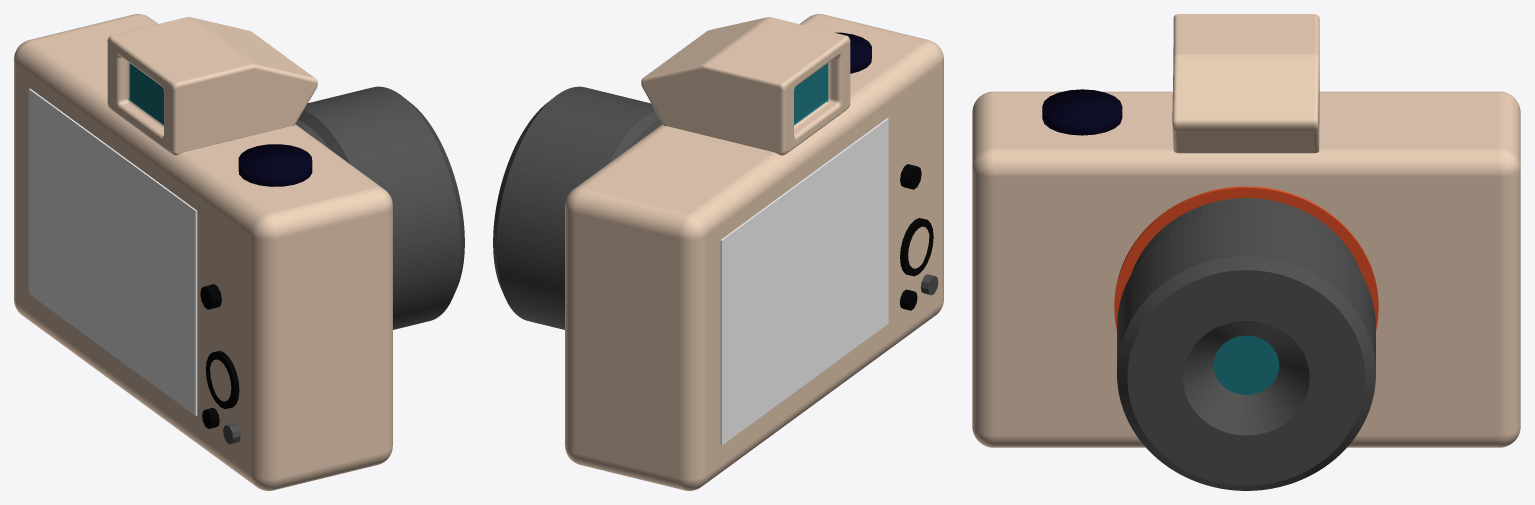
The model's file is LowPolyCamera_Light.glb.
The picture shows the model from 3 angles, left to right: view 1: azimuth 30°, elevation 25°; view 2: azimuth 150°, elevation 25°; view 3: azimuth 270°, elevation 25°; orthographic projection. The views are drawn at different scales.
Parts seen in each view (by area): view 1: Cube, Screen, Cube.001, Cylinder.001, Cylinder.003, Cylinder.005; view 2: Cube, Screen, Cube.001, Cylinder.001, Cylinder.005, Cylinder.003; view 3: Cube, Cylinder.001, Cube.001, Cylinder, Cylinder.003.
Part boxes in pixels (<box>): Cube: <box>14,14,392,490</box>; Screen: <box>28,88,197,415</box>; Cube.001: <box>107,17,317,155</box>; Cylinder.001: <box>295,86,464,329</box>; Cylinder.003: <box>238,144,312,186</box>; Cylinder.005: <box>205,351,239,408</box>; Cube: <box>565,14,943,490</box>; Screen: <box>720,118,888,445</box>; Cube.001: <box>641,17,850,155</box>; Cylinder.001: <box>493,86,662,329</box>; Cylinder.005: <box>900,218,933,276</box>; Cylinder.003: <box>835,32,871,73</box>; Cube: <box>972,91,1520,447</box>; Cylinder.001: <box>1117,198,1375,490</box>; Cube.001: <box>1172,14,1319,153</box>; Cylinder: <box>1114,186,1378,330</box>; Cylinder.003: <box>1042,89,1122,135</box>.
Size of the model in its own units: 0.1645 by 0.1903 by 0.254.
